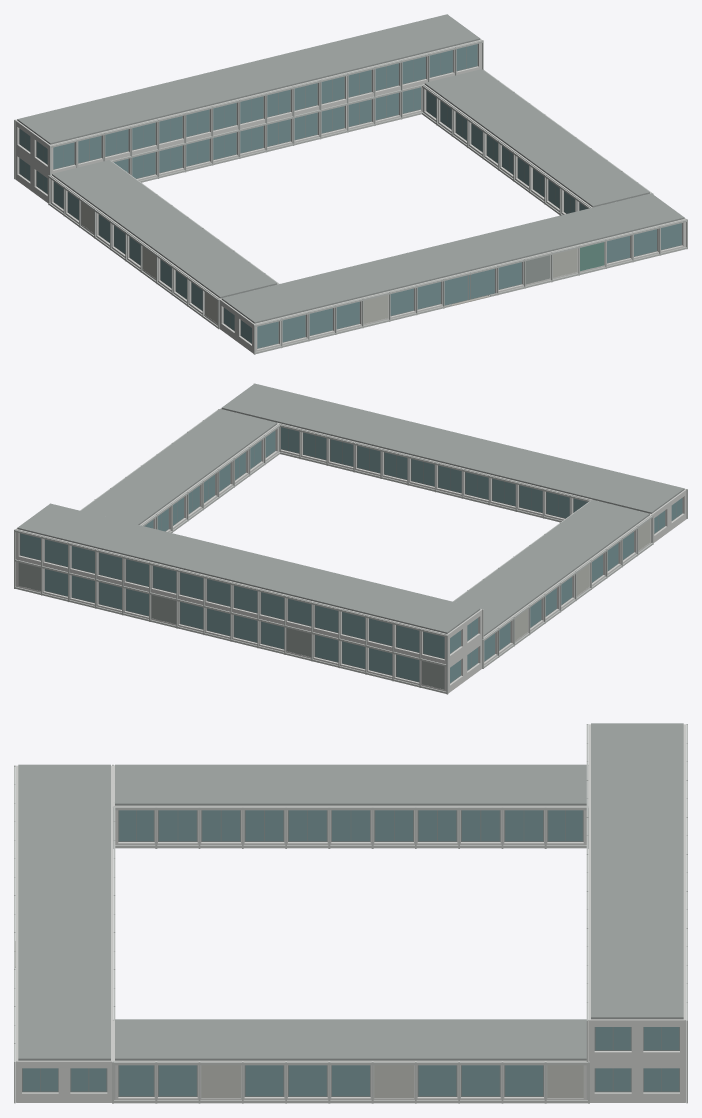
3 views of the same model, one above another, from view 1: azimuth 30°, elevation 25°; view 2: azimuth 150°, elevation 25°; view 3: azimuth 270°, elevation 25° (orthographic). The views are drawn at different scales.
Parts seen in each view (by area): view 1: w19__roof, w19__glass, w19__wall, w19__moduleFrame, w19__frame, w19__panelPale, w19__panelGrey, w19__panelTeal; view 2: w19__roof, w19__glass, w19__wall, w19__moduleFrame, w19__frame, w19__panelGrey, w19__panelPale; view 3: w19__roof, w19__glass, w19__wall, w19__moduleFrame, w19__frame, w19__panelPale.
Part boxes in pixels (x1,y1,x2,y2): w19__roof: (17, 14, 684, 323); w19__glass: (19, 44, 681, 348); w19__wall: (15, 39, 686, 353); w19__moduleFrame: (14, 14, 687, 354); w19__frame: (19, 44, 682, 348); w19__panelPale: (81, 202, 577, 323); w19__panelGrey: (525, 255, 550, 284); w19__panelTeal: (580, 242, 604, 271); w19__roof: (17, 383, 684, 636); w19__glass: (20, 427, 682, 682); w19__wall: (15, 408, 686, 693); w19__moduleFrame: (14, 383, 687, 694); w19__frame: (19, 429, 682, 683); w19__panelGrey: (18, 562, 444, 689); w19__panelPale: (515, 520, 650, 640); w19__roof: (18, 723, 683, 1060); w19__glass: (23, 810, 678, 1095); w19__wall: (16, 724, 685, 1102); w19__moduleFrame: (14, 724, 687, 1103); w19__frame: (22, 810, 679, 1096); w19__panelPale: (201, 1065, 583, 1097).
Bounding box in the file's own units: 50.92 × 6.76 × 48.72.
